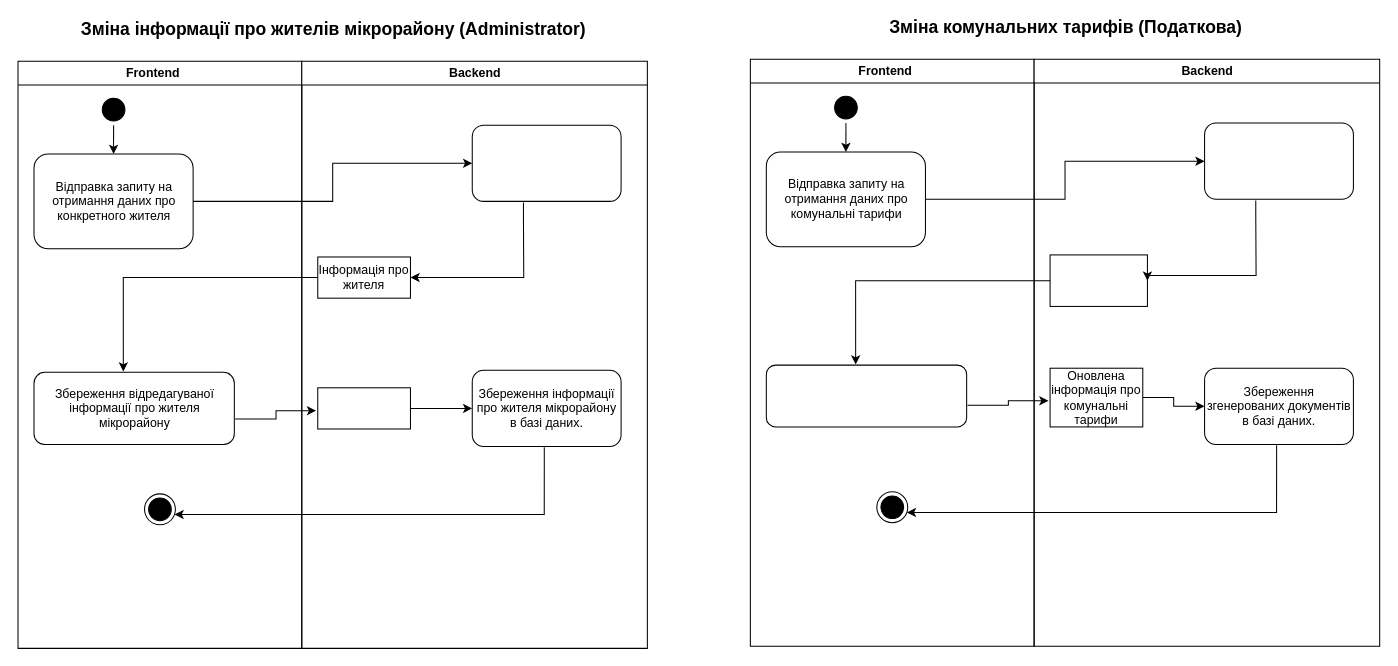
Some shapes in this 1398 by 666 pixel diagram are drawn without their labels. Here are the shapes that lost their labels. From the top down, the centre of each, then its label:
At (x=546, y=162): "Отримання даніих певного жителя мікрорайону з бази даних".
At (x=1278, y=160): "Отримання даніих про комунальні тарифи з бази даних".
At (x=1098, y=280): "Інформація про комунальні тарифи".
At (x=363, y=408): "Оновлена інформація про жителя".
At (x=866, y=395): "Збереження відредагуваної інформації про комунальні тарифи".
